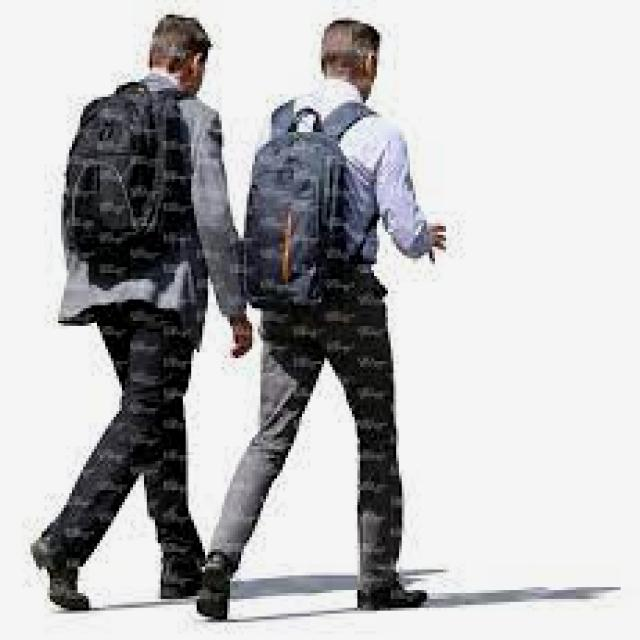backpack: (239, 98, 381, 310), (58, 76, 197, 276)
